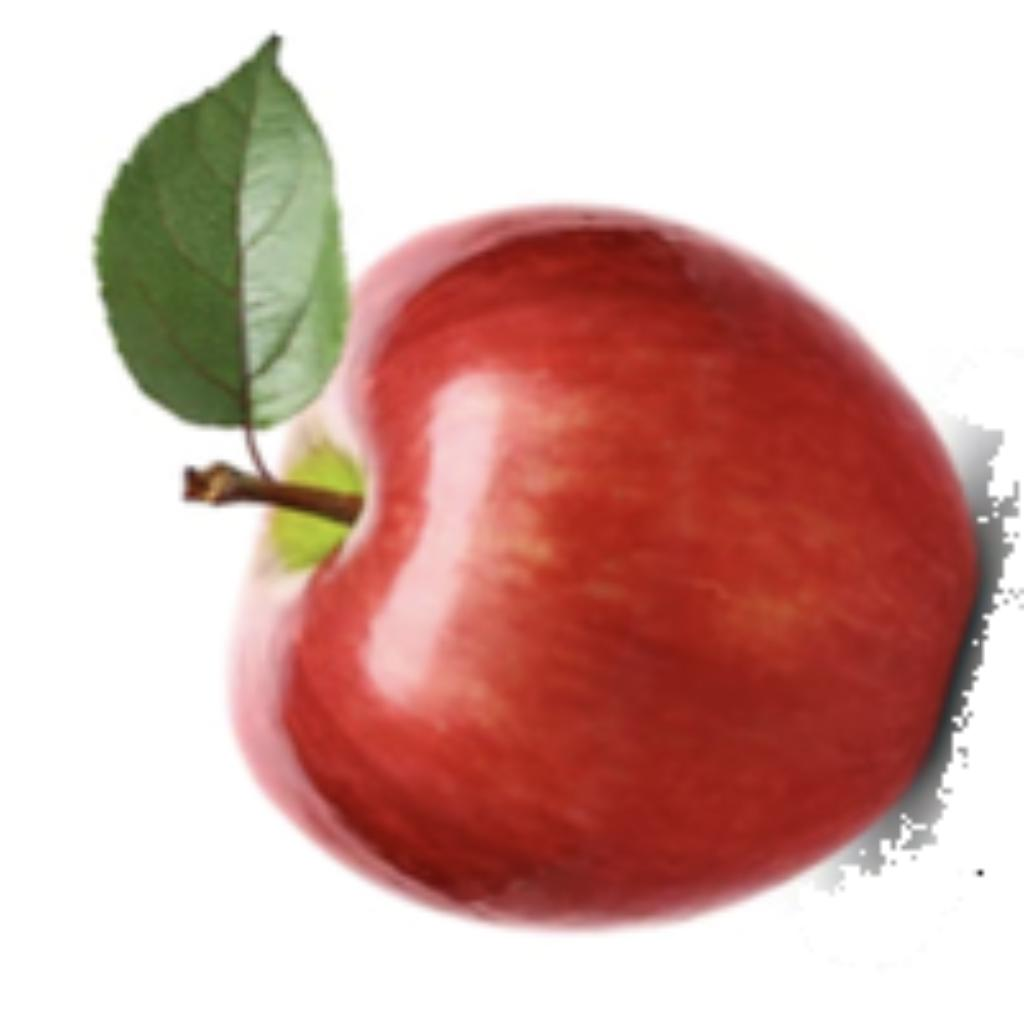apple: (82, 26, 1019, 937)
